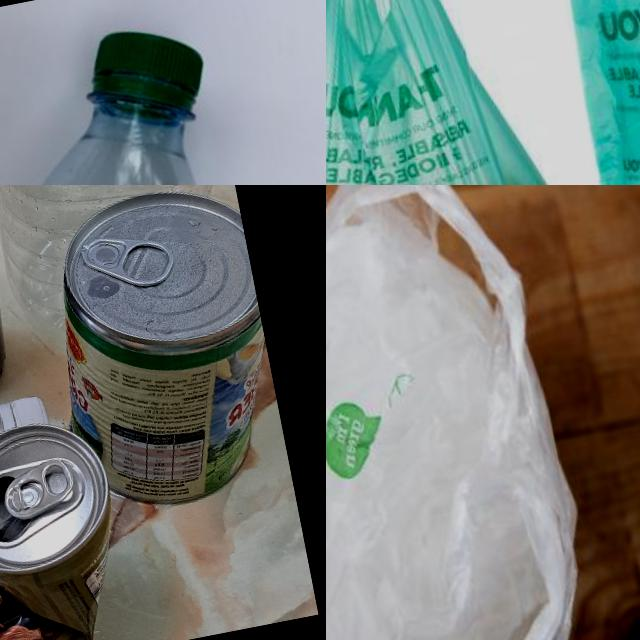aba de lata: (78, 221, 180, 299), (0, 456, 80, 524)
garrafa plástica: (0, 185, 255, 333), (0, 83, 253, 185), (0, 355, 64, 566)
lata: (32, 185, 292, 516), (0, 411, 140, 640)
sacola plástica: (326, 185, 608, 640), (326, 0, 596, 185), (489, 0, 640, 185)
tampa plástica: (76, 17, 215, 136), (0, 390, 46, 432)
